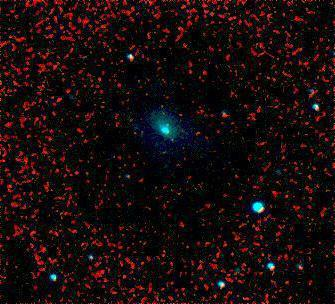star: (156, 126, 186, 156)
